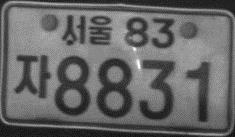1: (181, 61, 219, 122)
3: (137, 58, 176, 120), (150, 16, 175, 49)
8: (52, 54, 92, 116), (94, 57, 133, 119), (123, 16, 149, 48)
서울_H: (60, 14, 112, 46)
자: (14, 53, 51, 98)
